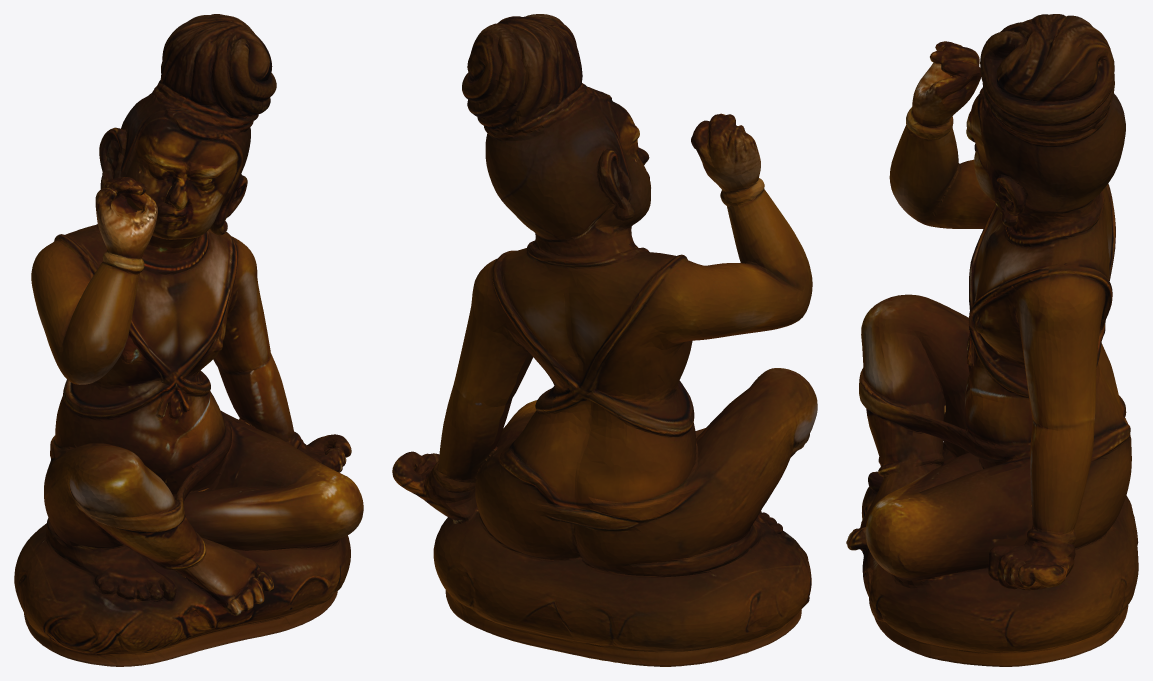
3 renders of one model, left to right at view 1: azimuth 30°, elevation 25°; view 2: azimuth 150°, elevation 25°; view 3: azimuth 270°, elevation 25°, orthographic. The views are drawn at different scales.
Parts seen in each view (by area): view 1: textured_mesh; view 2: textured_mesh; view 3: textured_mesh.
Part boxes in pixels (x1,y1,x2,y2): textured_mesh: (14,14,363,666); textured_mesh: (392,14,817,666); textured_mesh: (846,14,1138,666).
Size of the model in its own units: 1.31 by 1.99 by 0.876.
1 material, 1 textured.
